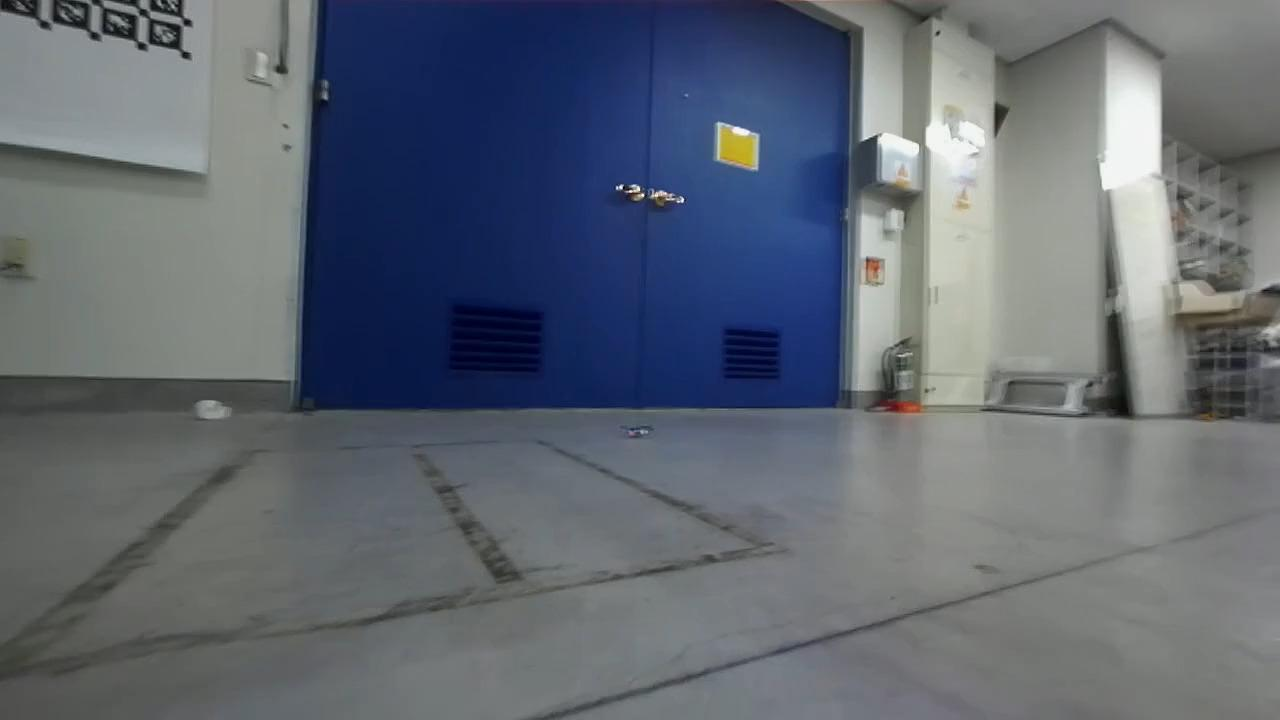crazyflie: (615, 418, 667, 445)
